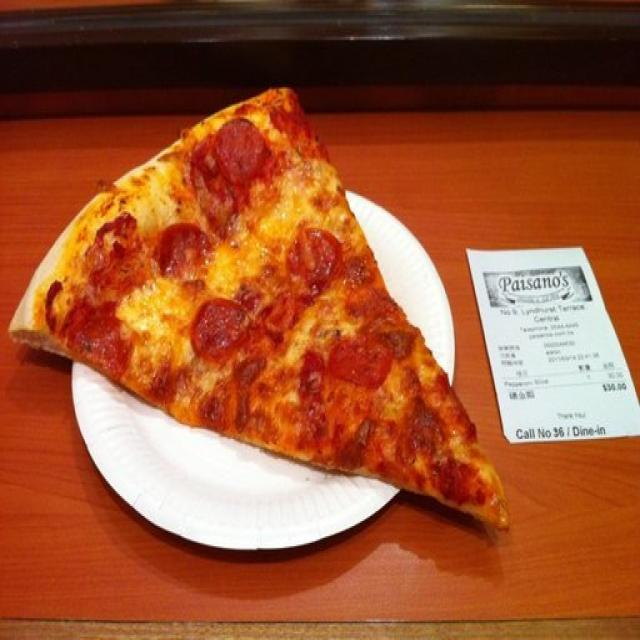Pepperoni: (190, 295, 250, 352), (332, 326, 386, 388), (160, 224, 214, 278), (216, 121, 265, 177), (288, 230, 331, 279)
Pizza: (9, 89, 506, 529)
